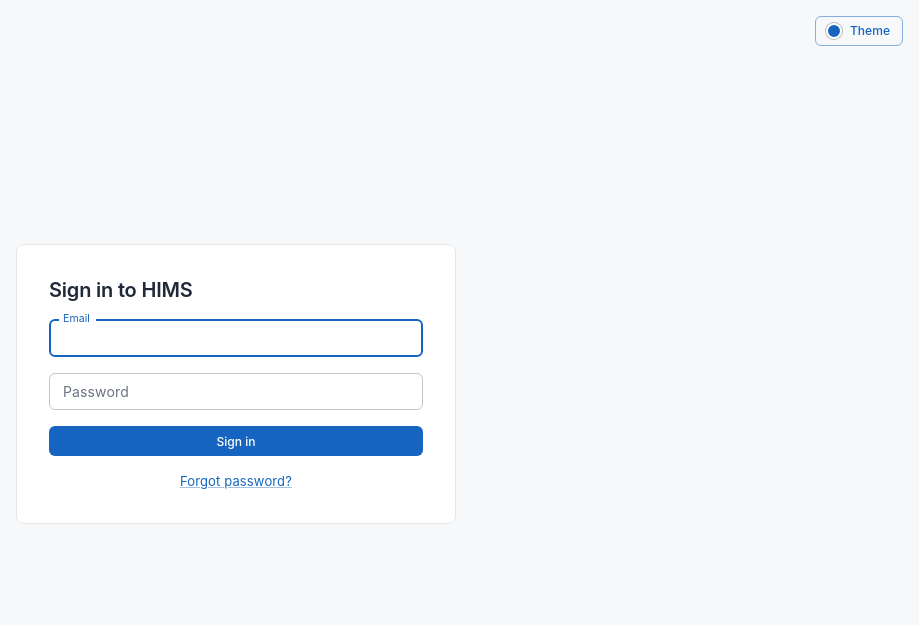
it: sign-in with a passkey › explains a cancelled passkey and leaves the code to use
Step 1. Type "admin@synthetic.test" into the field labelled "Email" → (236, 338), box [49,320,423,357]
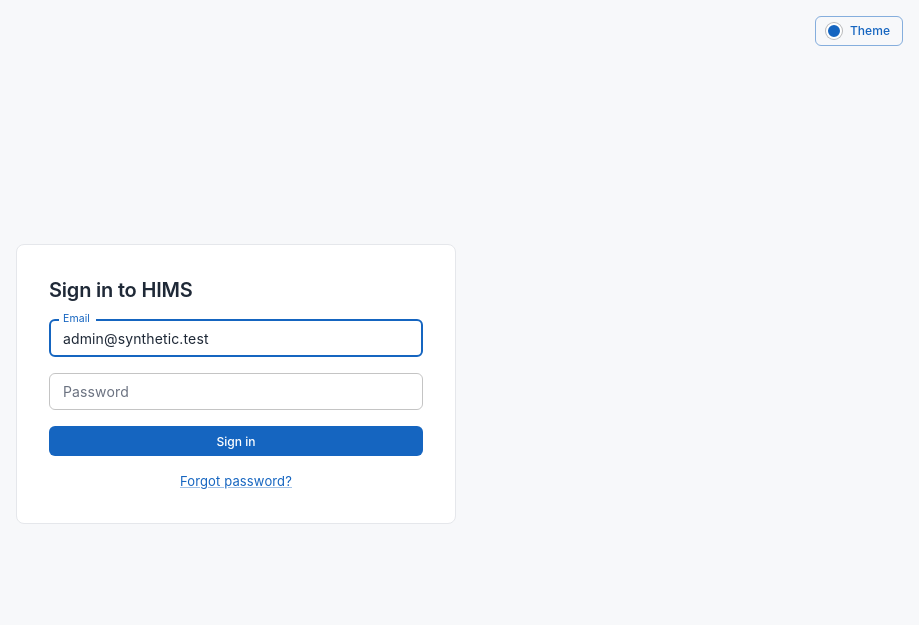
Step 2. Type "secret-password" into the password field labelled "Password" → (236, 392), box [49,373,423,410]
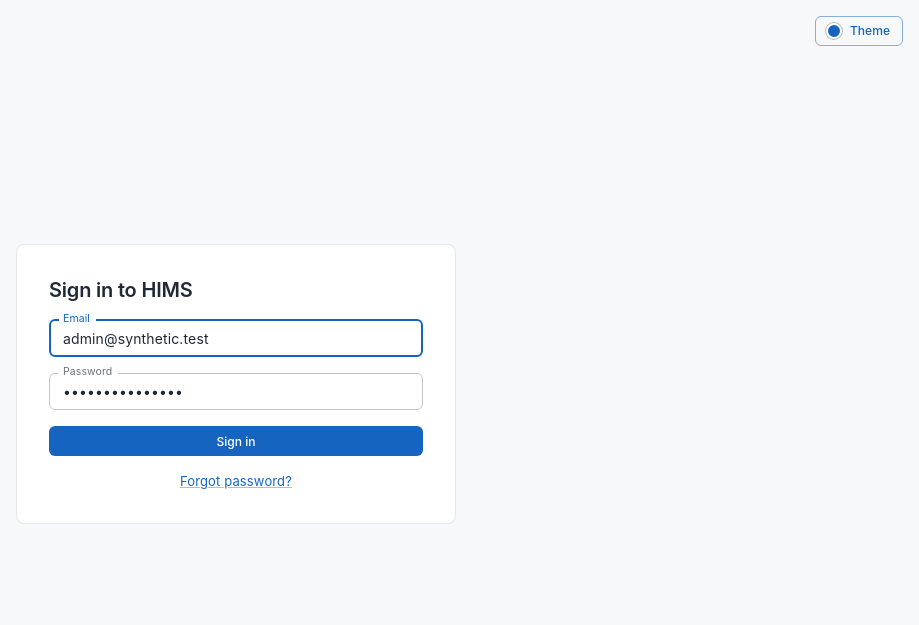
Step 3. Click the button "Sign in" → (236, 441), box [49,426,423,456]
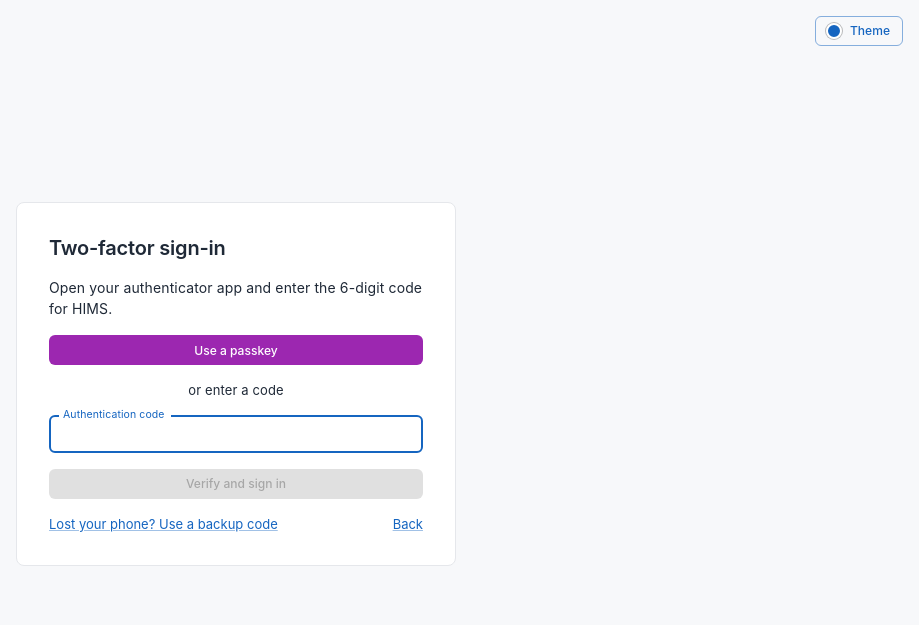
Result: the heading "Two-factor sign-in" is shown at [49,236,226,260]
Step 4. Click the button "Use a passkey" → (236, 350), box [49,335,423,365]
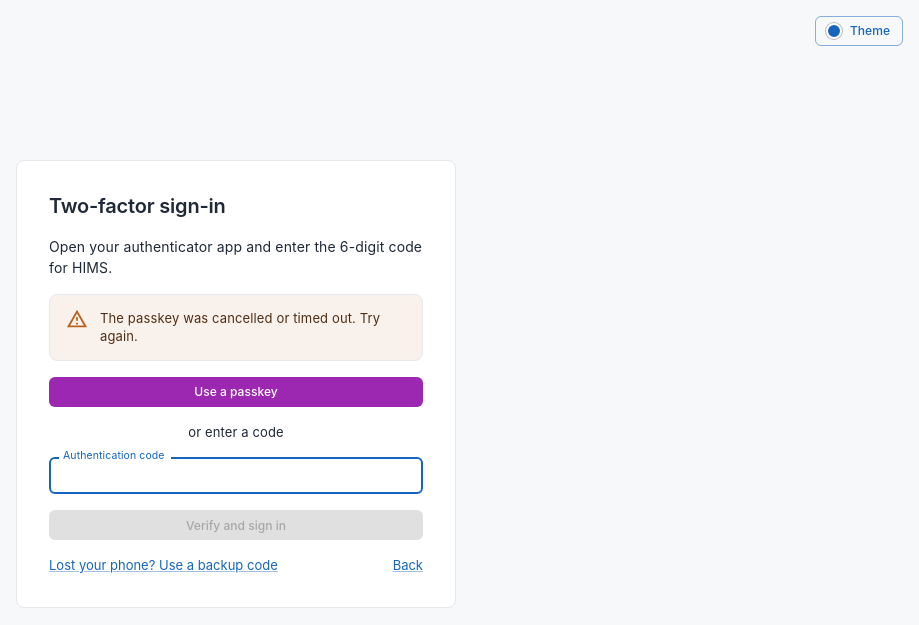
Result: the field labelled "Authentication code" is shown at [49,457,423,494]
Result: the text "The passkey was cancelled or timed out. Try again." is shown at [100,301,406,354]
